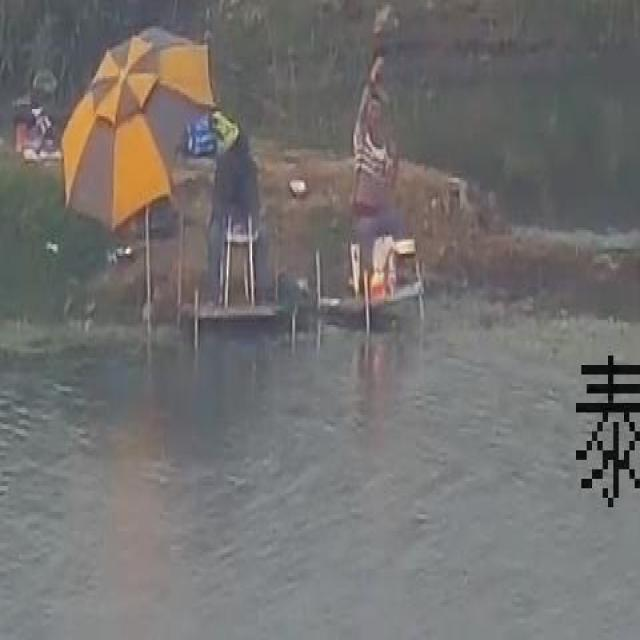other: (54, 32, 220, 246)
